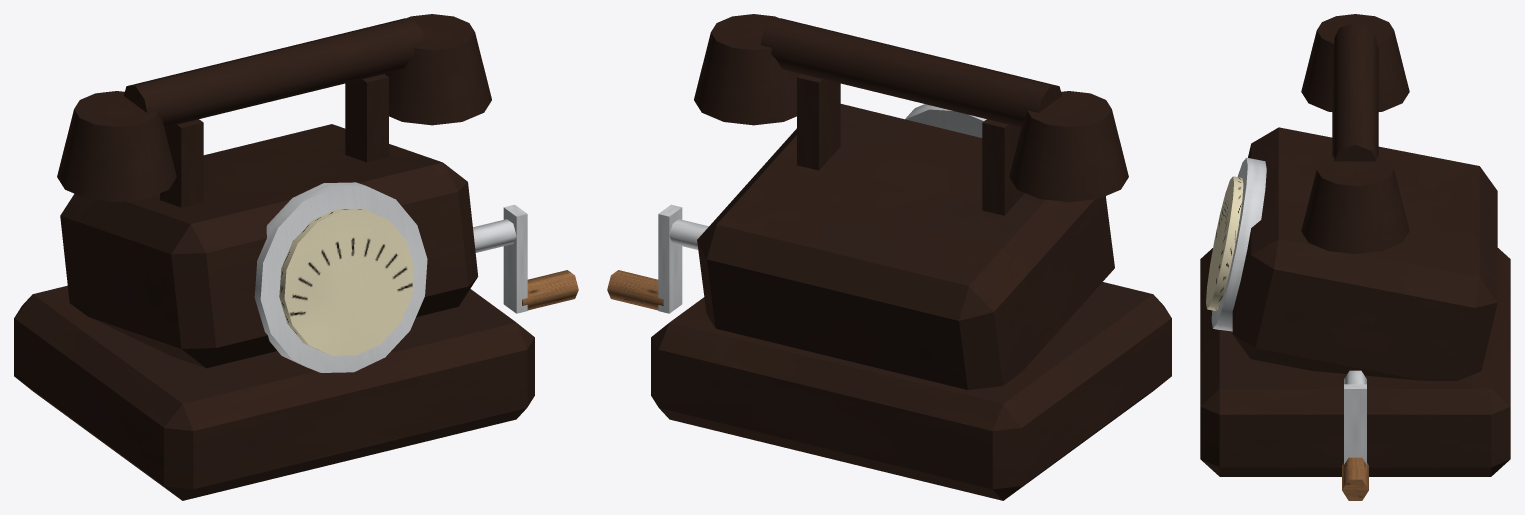
The model's file is OB_Telefon.fbx.
3 renders of one model, left to right at view 1: azimuth 30°, elevation 25°; view 2: azimuth 150°, elevation 25°; view 3: azimuth 270°, elevation 25°, orthographic. The views are drawn at different scales.
Visible parts, largest first — view 1: Telefon, Sluchawka; view 2: Telefon, Sluchawka; view 3: Telefon, Sluchawka.
Boxes of the visible parts, x1,y1,x2,y2 form: Telefon: (14, 74, 578, 500); Sluchawka: (57, 14, 491, 202); Telefon: (607, 74, 1171, 500); Sluchawka: (694, 14, 1128, 202); Telefon: (1200, 127, 1510, 500); Sluchawka: (1301, 14, 1409, 253).
Bounding box in the file's own units: 0.273 × 0.182 × 0.16.
